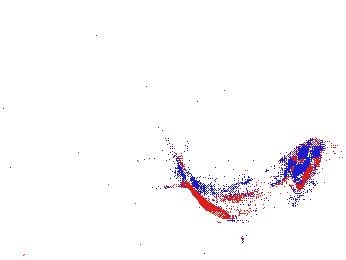glassfish: (170, 140, 323, 218)
